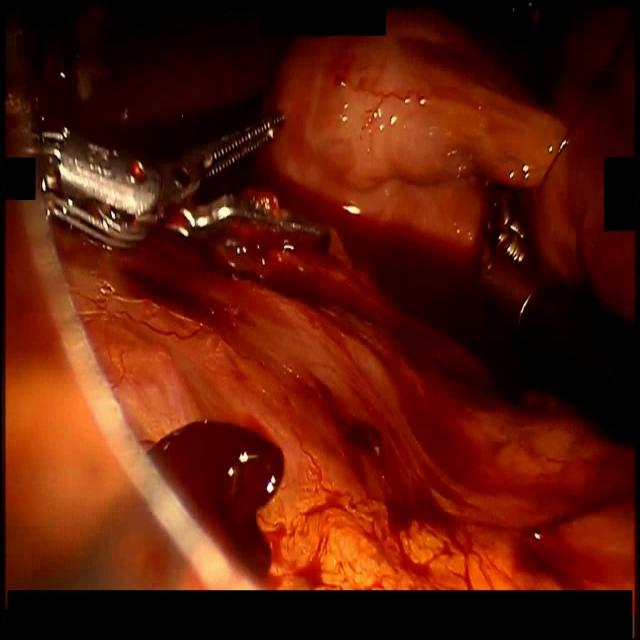surgical-area: (0, 0, 638, 591)
surgical-tool: (3, 75, 327, 245)
